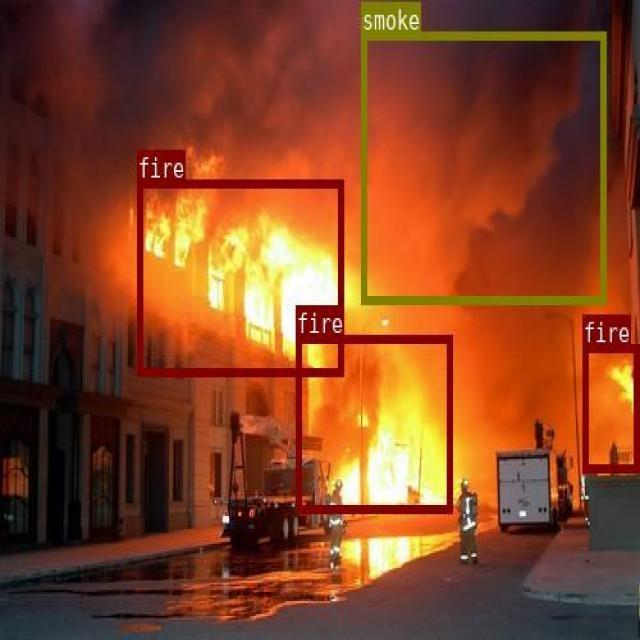fire: (137, 178, 343, 374), (295, 334, 452, 512), (582, 344, 638, 470)
smoke: (361, 31, 606, 303)
